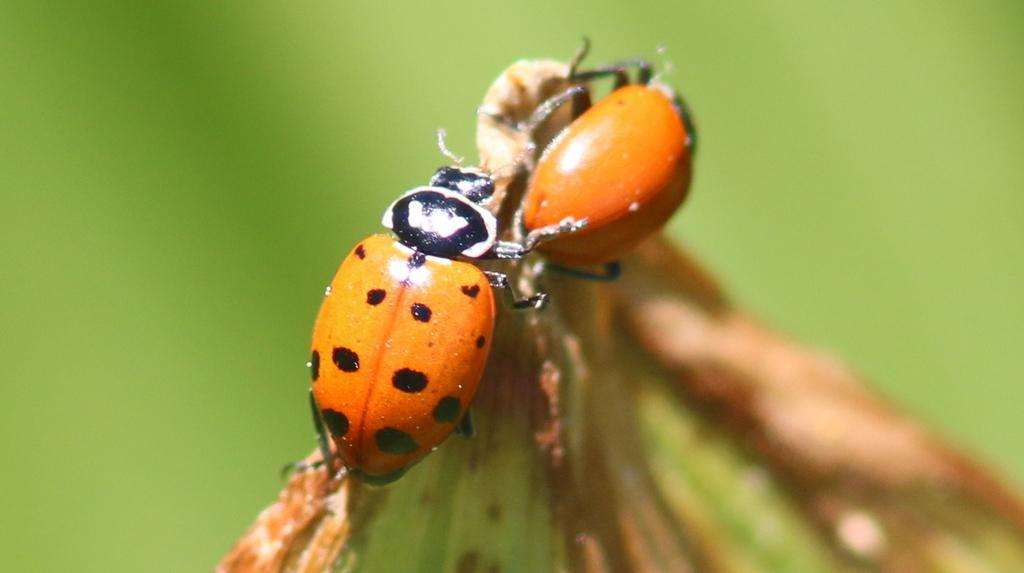ladybug: (284, 129, 589, 489), (519, 33, 703, 284)
